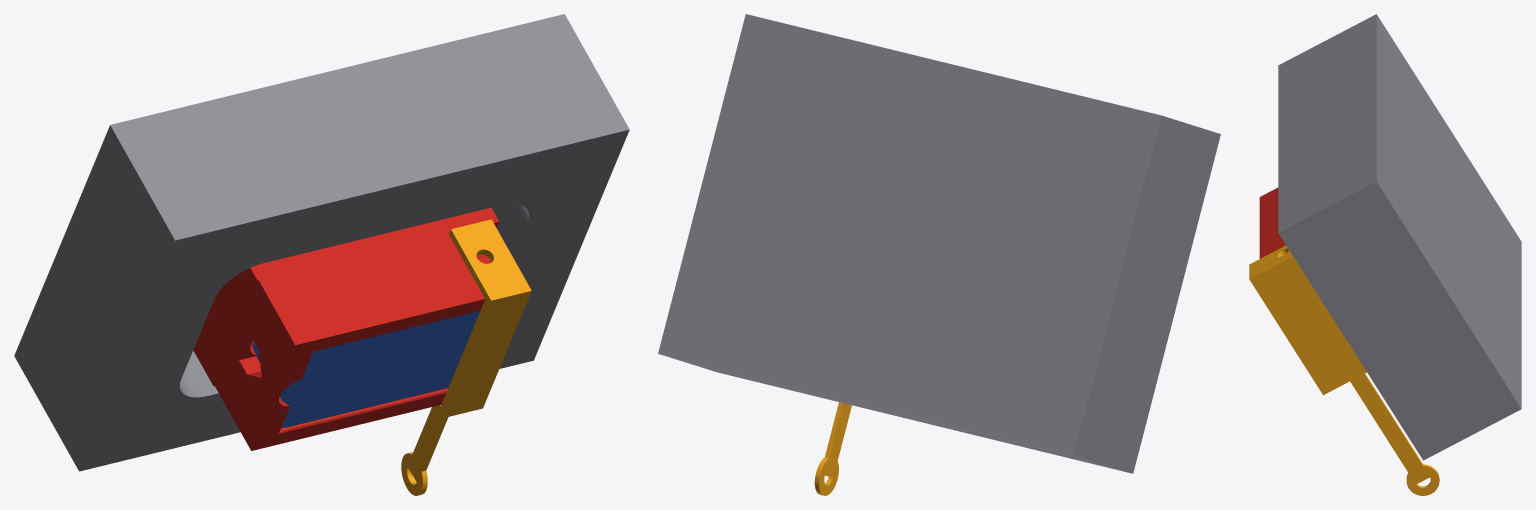
File: dragy_assembly_v2.obj
3 views of the same model, side by side, from view 1: azimuth 30°, elevation 25°; view 2: azimuth 150°, elevation 25°; view 3: azimuth 270°, elevation 25° (orthographic). The views are drawn at different scales.
Visible parts, largest first — view 1: front_swingarm_pad_schematic, dragy_holder, dragy, usbc_cap; view 2: front_swingarm_pad_schematic, usbc_cap; view 3: front_swingarm_pad_schematic, usbc_cap, dragy_holder.
Part boxes in pixels (x1,y1,x2,y2): front_swingarm_pad_schematic: (14, 14, 629, 471); dragy_holder: (193, 207, 499, 450); dragy: (252, 311, 480, 427); usbc_cap: (401, 219, 531, 495); front_swingarm_pad_schematic: (658, 14, 1220, 473); usbc_cap: (814, 402, 851, 495); front_swingarm_pad_schematic: (1278, 14, 1521, 460); usbc_cap: (1249, 245, 1439, 495); dragy_holder: (1259, 187, 1285, 258).
Size of the model in its own units: 96.3 by 95.79 by 66.09.
